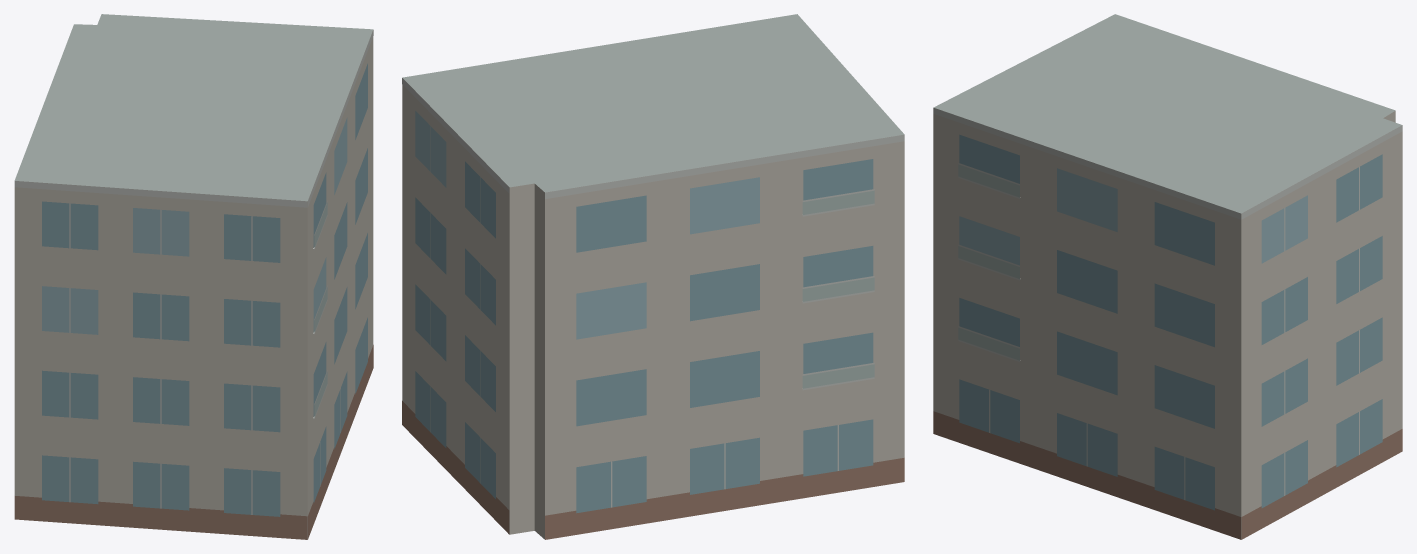
The model's file is survey-upis-32634787.glb.
3 renders of one model, left to right at view 1: azimuth 30°, elevation 25°; view 2: azimuth 150°, elevation 25°; view 3: azimuth 270°, elevation 25°, orthographic. The views are drawn at different scales.
Parts seen in each view (by area): view 1: survey-upis-32634787.tmp; view 2: survey-upis-32634787.tmp; view 3: survey-upis-32634787.tmp.
Part boxes in pixels (box(x1,y1,x2,y2)): survey-upis-32634787.tmp: box(14, 14, 373, 539); survey-upis-32634787.tmp: box(402, 14, 904, 539); survey-upis-32634787.tmp: box(933, 14, 1402, 539).
Size of the model in its own units: 16.8 by 12.8 by 16.69.
